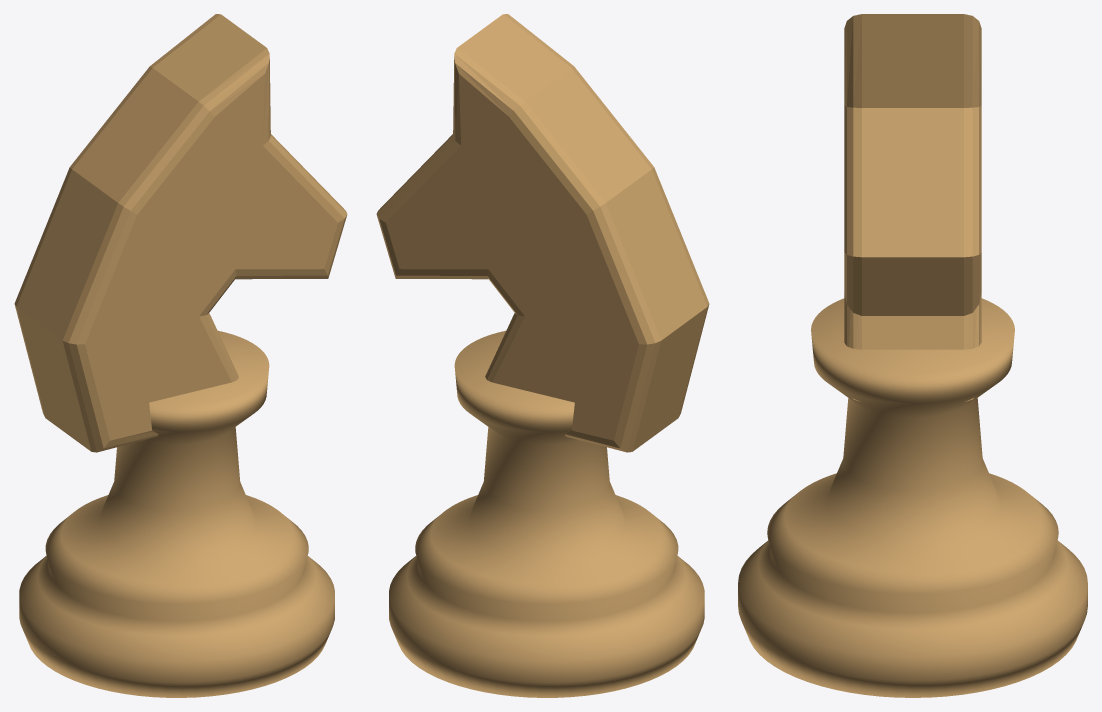
The model's file is knight.glb.
3 views of the same model, side by side, from view 1: azimuth 30°, elevation 25°; view 2: azimuth 150°, elevation 25°; view 3: azimuth 270°, elevation 25° (orthographic). The views are drawn at different scales.
Bounding box in the file's own units: 1.24 × 2.46 × 1.2.
